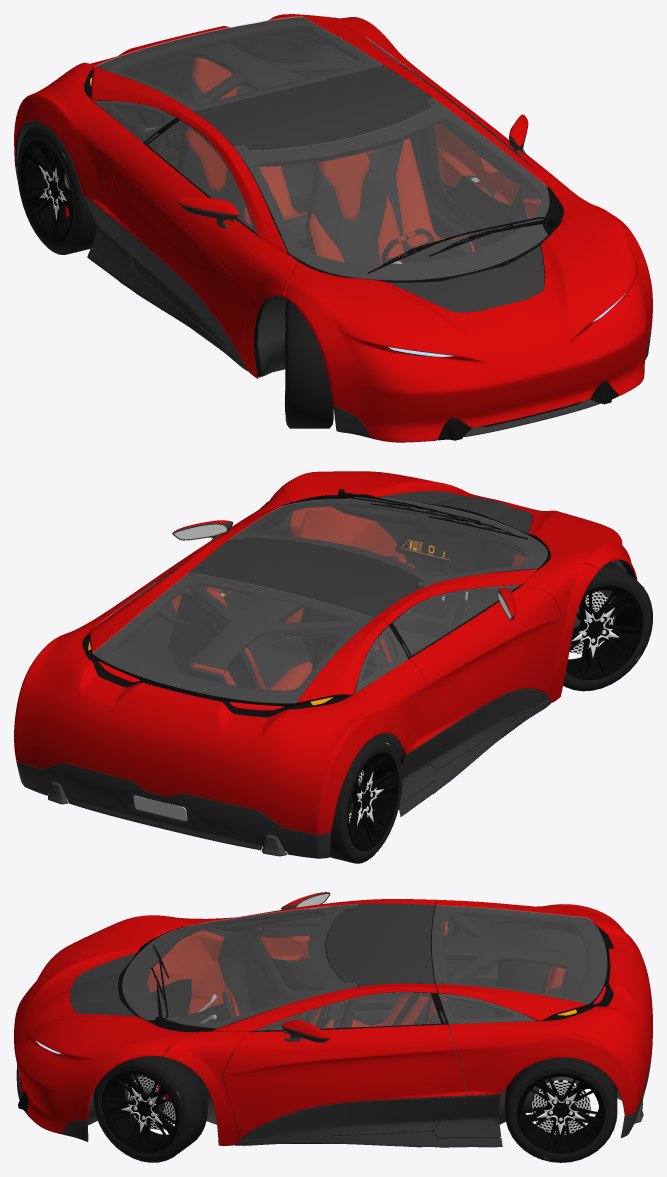
The model's file is concept-car.glb.
3 views of the same model, one above another, from view 1: azimuth 30°, elevation 25°; view 2: azimuth 150°, elevation 25°; view 3: azimuth 270°, elevation 25° (orthographic). The views are drawn at different scales.
Visible parts, largest first — view 1: BodyHood, BodyWindshield, BodyRearwindow, BodyDoorRColor1, BodyRearPanelsColor1, BodyRoofPanel, BodyWindshieldGasket, InteriorSeatsColor1, InteriorSeatsColor2, BodyPillars, InteriorRearHatch, InteriorPillar (+21 smaller); view 2: BodyRearPanelsColor1, BodyRearwindow, BodyWindshield, BodyDoorRColor1, BodyPanelsColor2, BodyRoofPanel, BodyHood, InteriorRearHatch, BodyPillars, InteriorPillar, BodyWindshieldGasket, InteriorDashMid (+22 smaller); view 3: BodyRearPanelsColor1, BodyWindshield, BodyDoorLColor1, BodyHood, BodyRearwindow, BodyRoofPanel, BodyPillars, BodyWindshieldGasket, BodyDoorLColor2, BodyPanelsColor2, WheelFrontL, InteriorRearHatch (+25 smaller).
Boxes of the visible parts, <box> form: BodyHood: <box>283,198,652,442</box>; BodyWindshield: <box>234,98,549,280</box>; BodyRearwindow: <box>95,16,382,110</box>; BodyDoorRColor1: <box>104,143,257,362</box>; BodyRearPanelsColor1: <box>14,14,428,210</box>; BodyRoofPanel: <box>193,65,432,150</box>; BodyWindshieldGasket: <box>234,99,563,282</box>; InteriorSeatsColor1: <box>185,57,475,264</box>; InteriorSeatsColor2: <box>180,78,472,264</box>; BodyPillars: <box>176,61,598,378</box>; InteriorRearHatch: <box>93,17,383,117</box>; InteriorPillar: <box>158,42,434,168</box>; BodyRearPanelsColor1: <box>14,569,425,834</box>; BodyRearwindow: <box>92,573,373,703</box>; BodyWindshield: <box>229,497,547,587</box>; BodyDoorRColor1: <box>409,585,562,742</box>; BodyPanelsColor2: <box>16,700,550,858</box>; BodyRoofPanel: <box>189,537,422,617</box>; BodyHood: <box>279,471,637,580</box>; InteriorRearHatch: <box>93,573,386,707</box>; BodyPillars: <box>175,489,599,702</box>; InteriorPillar: <box>187,574,417,676</box>; BodyWindshieldGasket: <box>230,497,550,587</box>; InteriorDashMid: <box>331,502,528,622</box>; BodyRearPanelsColor1: <box>436,899,652,1115</box>; BodyWindshield: <box>122,904,357,1028</box>; BodyDoorLColor1: <box>222,1024,467,1139</box>; BodyHood: <box>14,915,196,1133</box>; BodyRearwindow: <box>432,905,606,1003</box>; BodyRoofPanel: <box>326,903,434,986</box>; BodyPillars: <box>163,899,437,1145</box>; BodyWindshieldGasket: <box>118,905,357,1032</box>; BodyDoorLColor2: <box>240,1096,467,1140</box>; BodyPanelsColor2: <box>16,1050,652,1147</box>; WheelFrontL: <box>93,1054,207,1162</box>; InteriorRearHatch: <box>431,905,606,1020</box>.
Size of the model in its own units: 2.54 by 1.15 by 4.36.
Materials: 23 (3 with a texture image).
